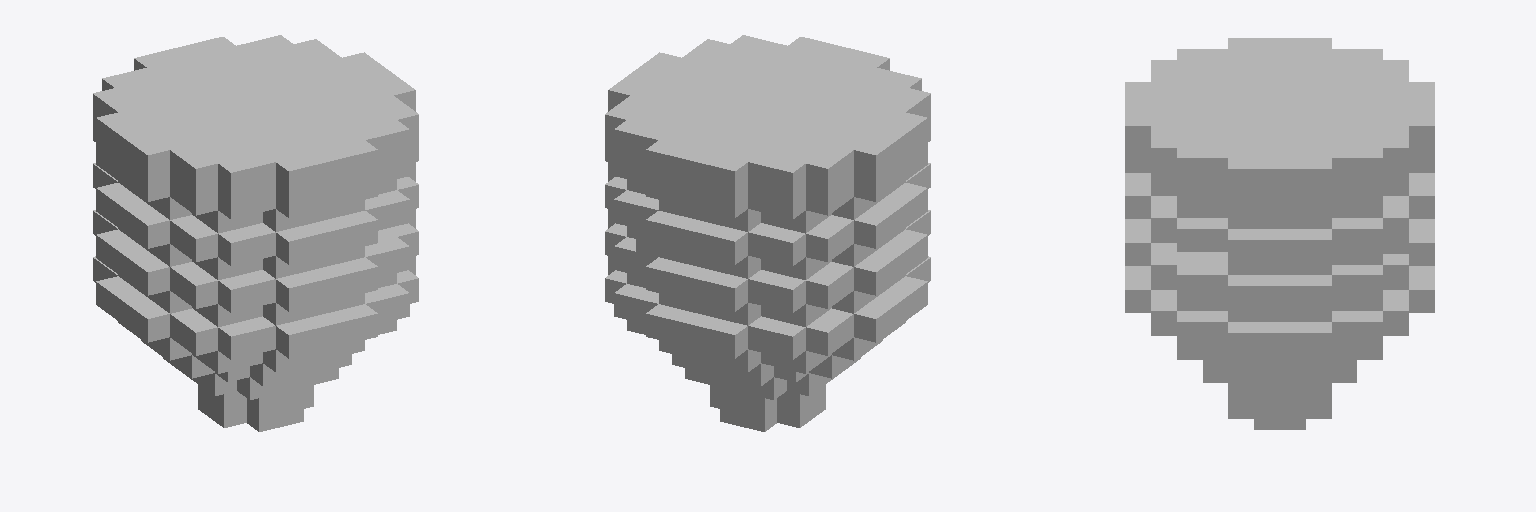
The model's file is lampplintIdea.obj.
3 views of the same model, side by side, from view 1: azimuth 30°, elevation 25°; view 2: azimuth 150°, elevation 25°; view 3: azimuth 270°, elevation 25° (orthographic).
Visible parts, largest first — view 1: object 1; view 2: object 1; view 3: object 1.
Boxes of the visible parts, <box> form: object 1: <box>93,35,418,431</box>; object 1: <box>605,35,930,431</box>; object 1: <box>1125,38,1434,429</box>.
Bounding box in the file's own units: 1.2 × 1.3 × 1.2.